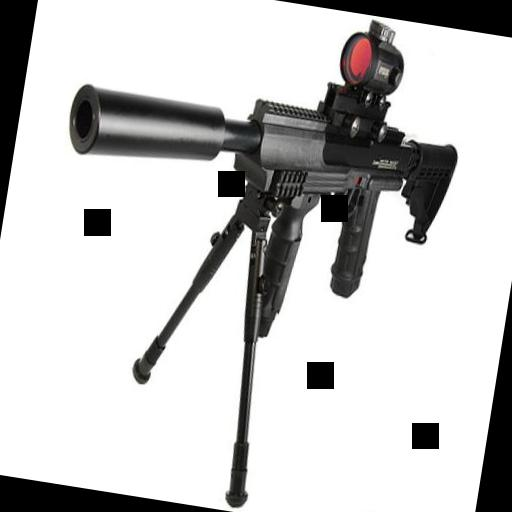Handgun: (212, 76, 414, 334)
